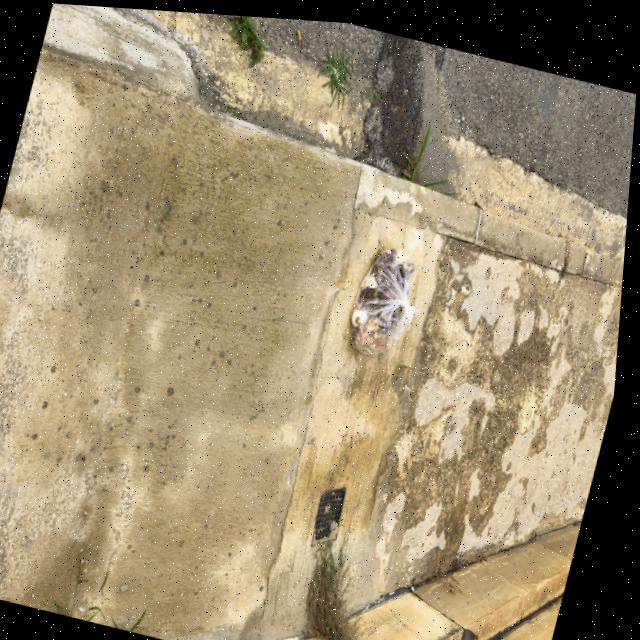Organic Waste -White Bag-: (346, 236, 437, 360)
